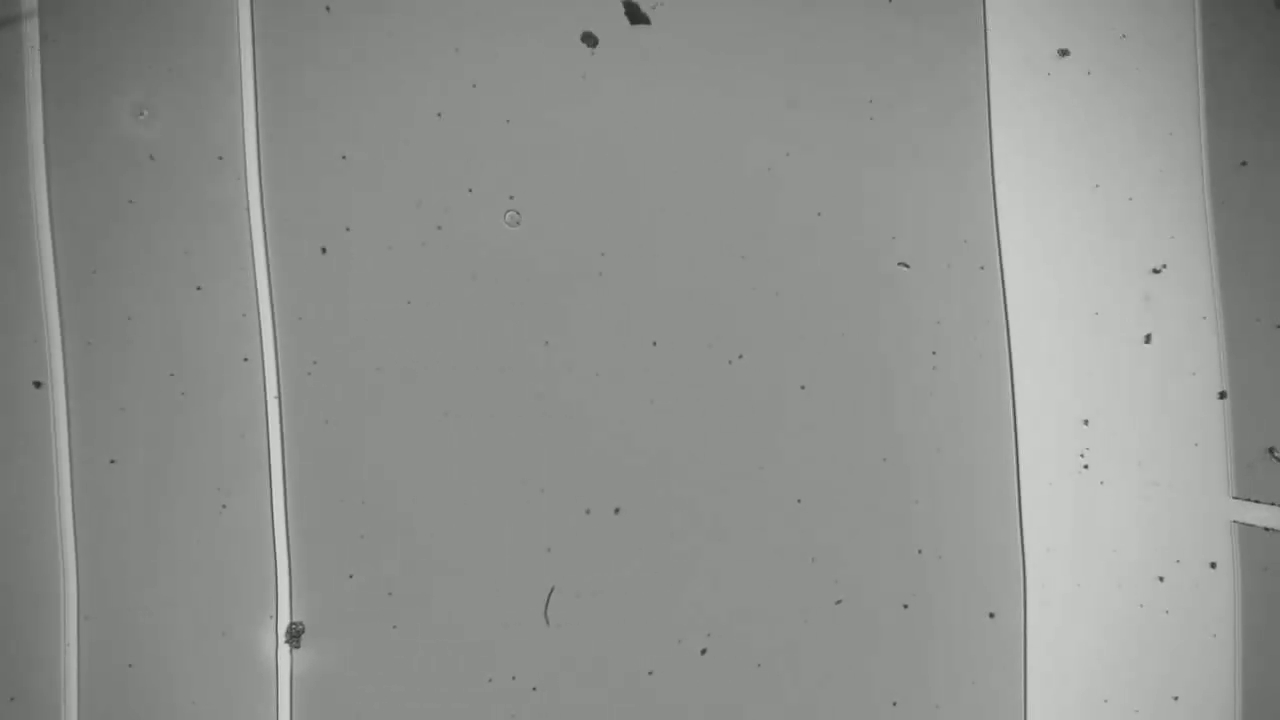Short_circuit: (1207, 475, 1280, 549)
stains_enbedded: (264, 613, 312, 652)
